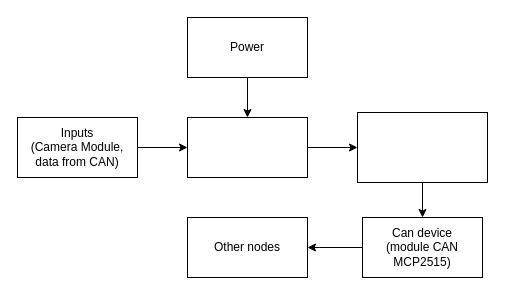
Some shapes in this 505 by 295 pixel diagram are drawn without their labels. The box of each missing label's shape, as (x1, y1, x2, y2) in pixels:
Display (Monitor): (356, 112, 488, 182)
MCU (Raspberry Pi): (186, 116, 308, 178)
